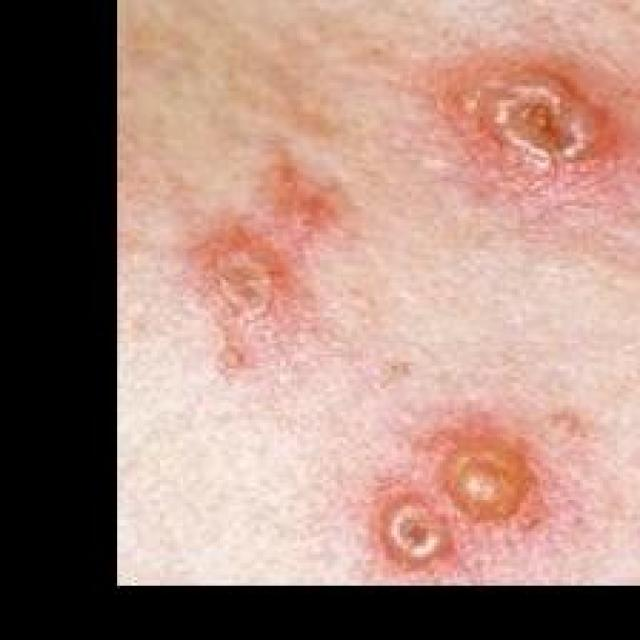others: (168, 69, 640, 576)
